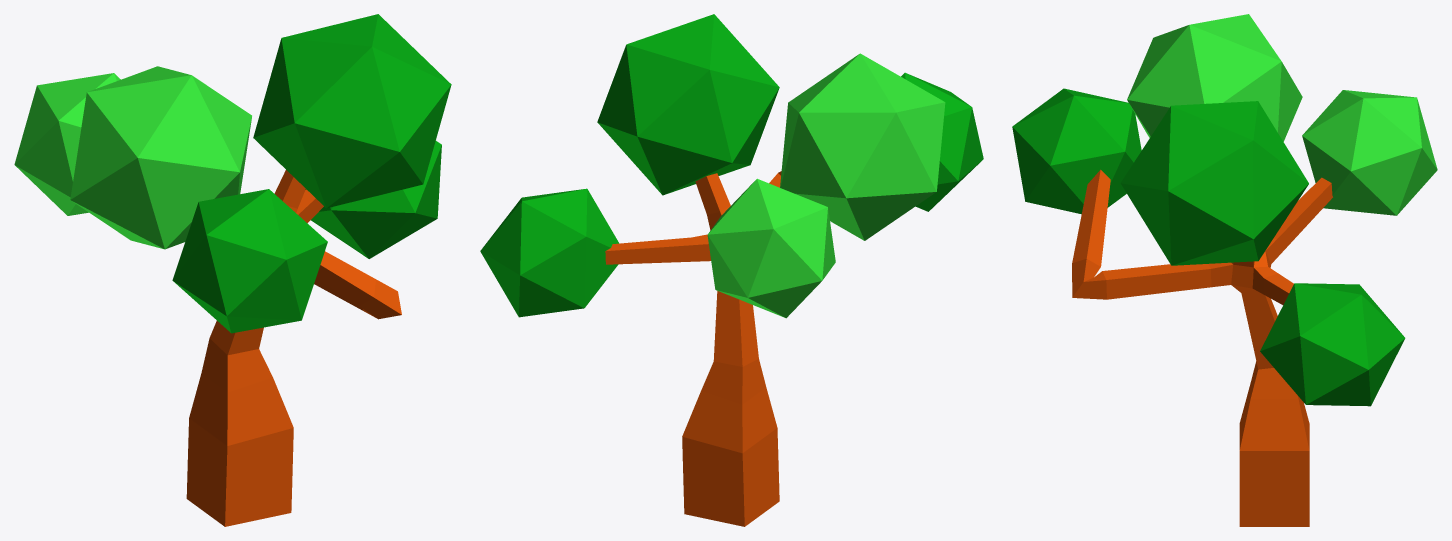
Rendered from tree_leafs.fbx.
3 renders of one model, left to right at view 1: azimuth 30°, elevation 25°; view 2: azimuth 150°, elevation 25°; view 3: azimuth 270°, elevation 25°, orthographic. The views are drawn at different scales.
Visible parts, largest first — view 1: Icosphere.001, Icosphere.003, Cube, Icosphere.004, Icosphere.002, Icosphere; view 2: Icosphere.001, Icosphere.003, Cube, Icosphere.002, Icosphere, Icosphere.004; view 3: Cube, Icosphere.001, Icosphere, Icosphere.003, Icosphere.002, Icosphere.004.
Part boxes in pixels (x1,y1,x2,y2): Icosphere.001: [253, 14, 451, 208]; Icosphere.003: [70, 66, 251, 249]; Cube: [186, 170, 401, 526]; Icosphere.004: [172, 189, 327, 333]; Icosphere.002: [14, 73, 120, 215]; Icosphere: [305, 141, 441, 258]; Icosphere.001: [597, 14, 779, 195]; Icosphere.003: [780, 53, 945, 240]; Cube: [605, 171, 781, 526]; Icosphere.002: [707, 178, 835, 318]; Icosphere: [480, 188, 619, 317]; Icosphere.004: [901, 72, 983, 211]; Cube: [1072, 169, 1332, 526]; Icosphere.001: [1120, 101, 1308, 265]; Icosphere: [1260, 283, 1405, 406]; Icosphere.003: [1127, 14, 1302, 141]; Icosphere.002: [1302, 90, 1437, 215]; Icosphere.004: [1012, 88, 1141, 214].
Size of the model in its own units: 668 by 740 by 641.
